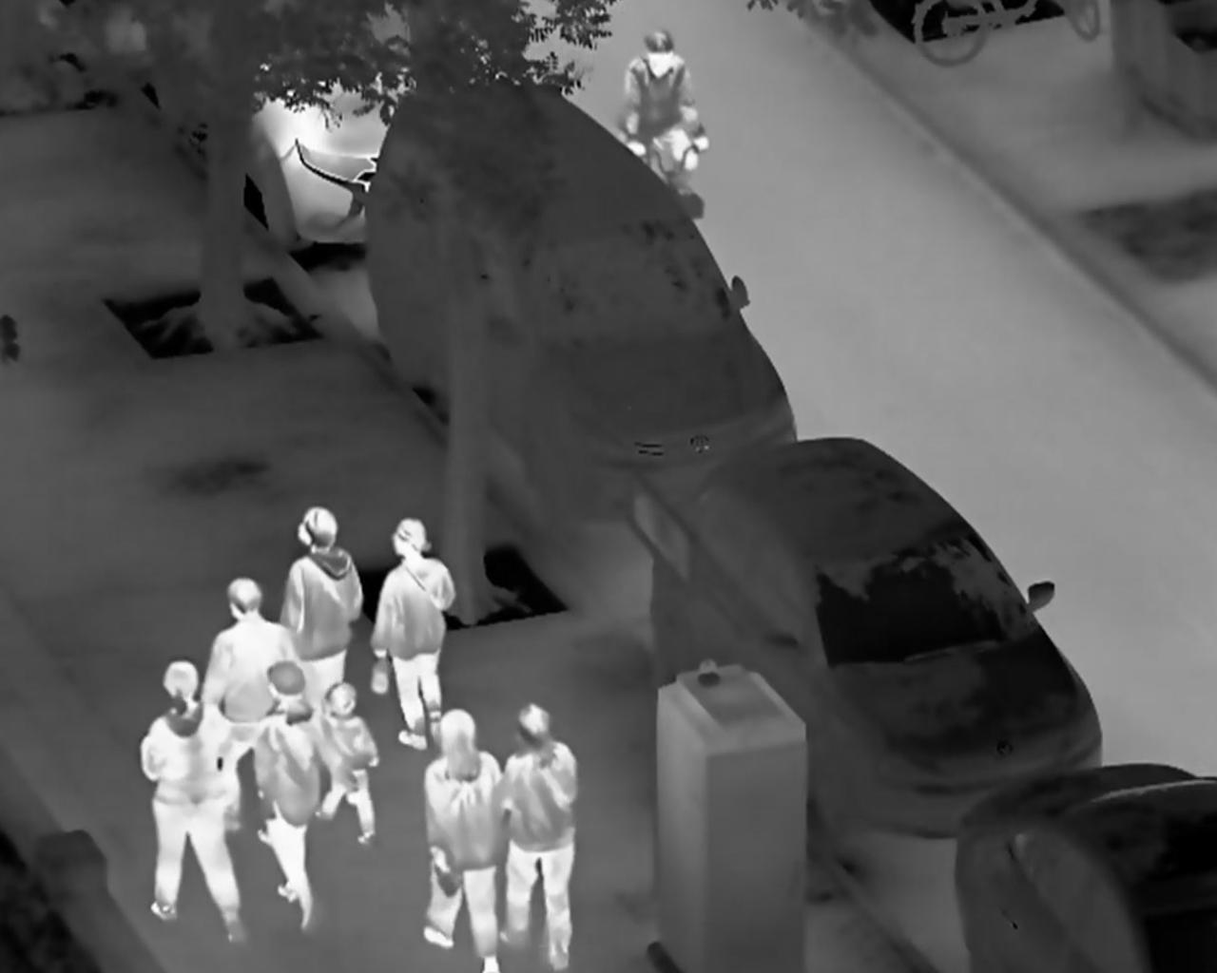person: (140, 659, 249, 945), (498, 700, 580, 971), (368, 513, 460, 752), (423, 707, 505, 973), (278, 504, 362, 717), (252, 664, 314, 931), (202, 576, 302, 738), (618, 28, 709, 188), (314, 679, 381, 845)
